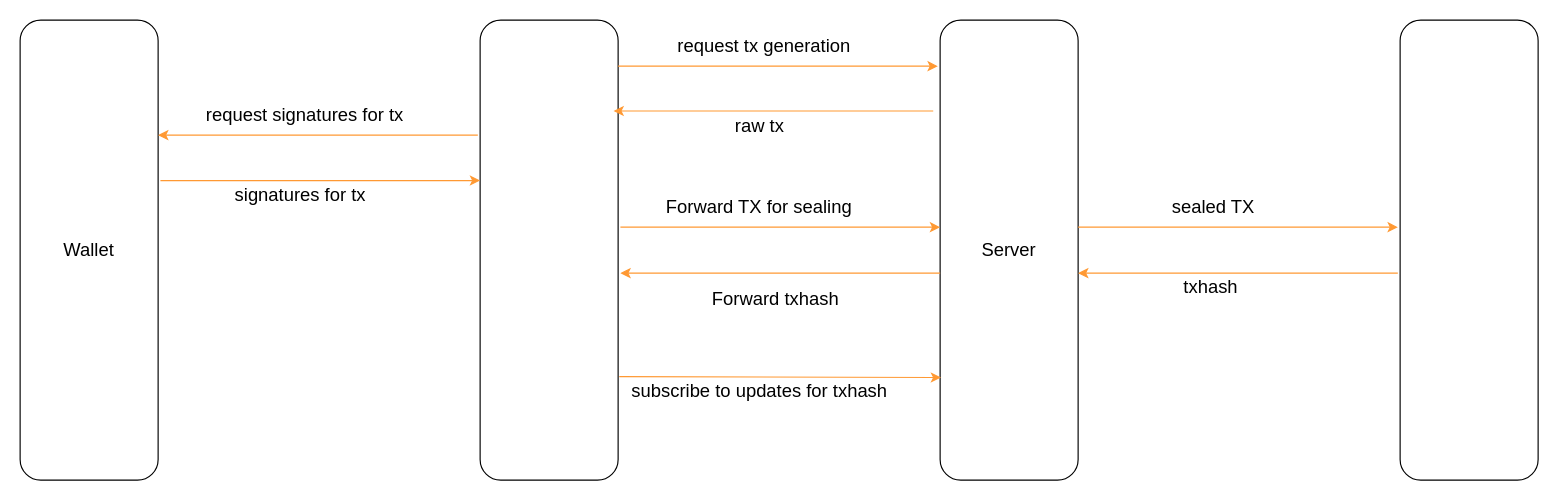
This 1558x500 diagram has some shape labels left out. Each missing label, with the box of its shape:
CKB Node: (1399, 19, 1538, 480)
dApp Client: (479, 19, 618, 480)
